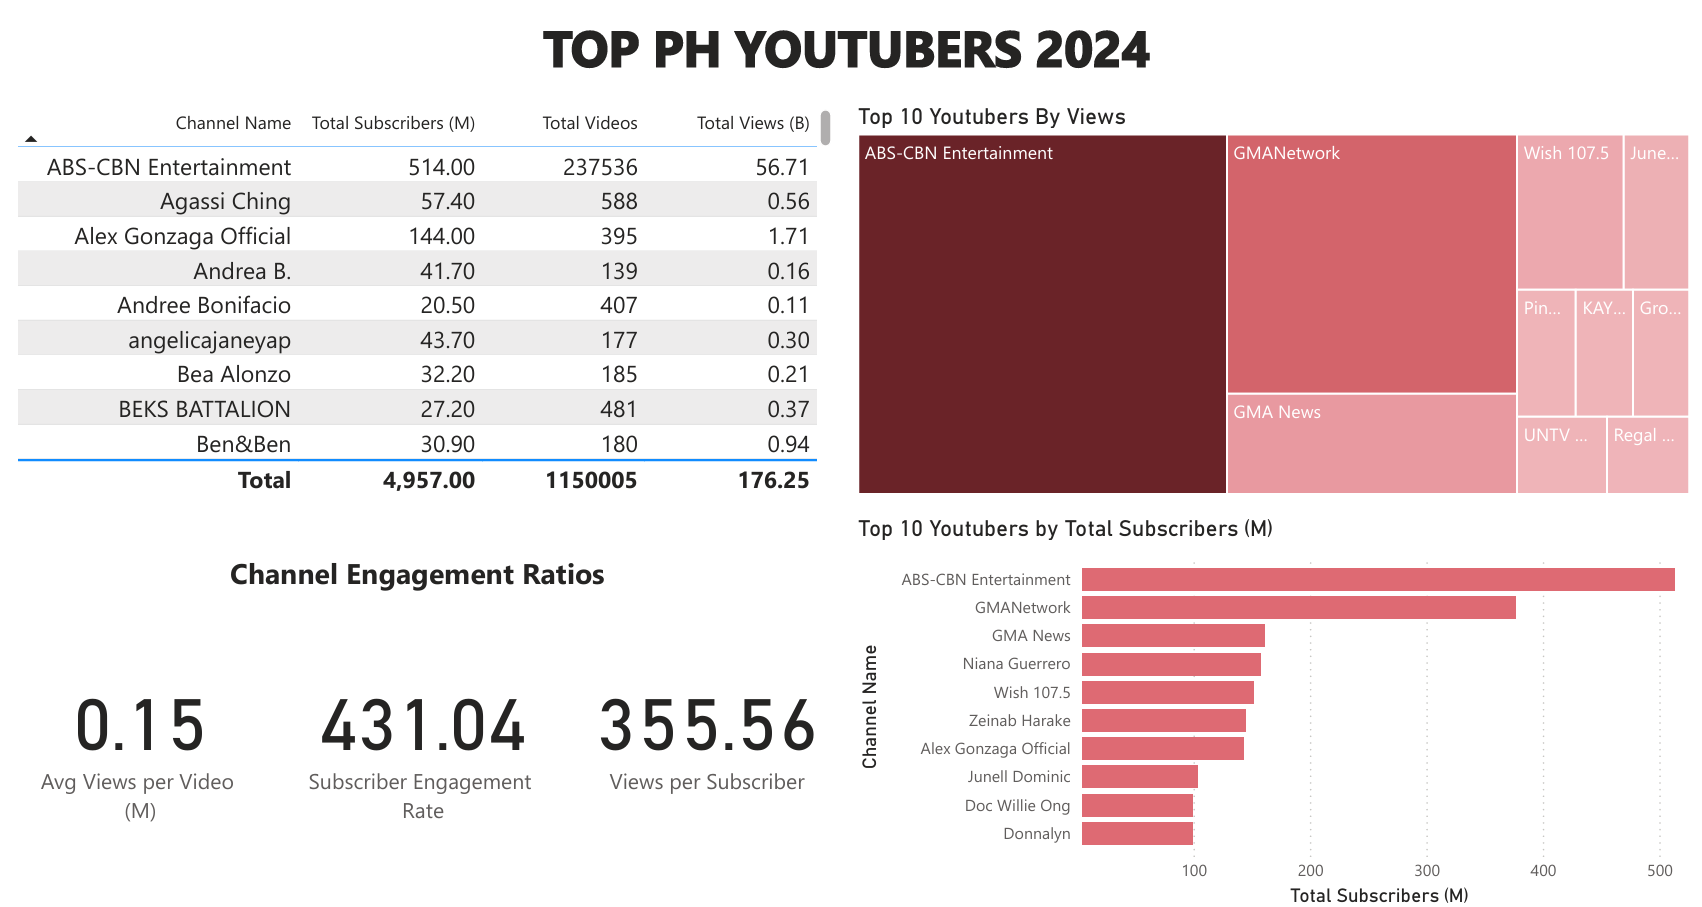

The dashboard page shown, as its layout file describes it:
{"tool":"powerbi","page":{"name":"Page 1","canvas":[1280,720],"ordinal":0},"visuals":[{"type":"textbox","box":[403.6,0,491.2,72],"z":0},{"type":"tableEx","fields":{"Values":["view_ph_youtubers_2024.channel_name","view_ph_youtubers_2024.Total Subscribers (M)","view_ph_youtubers_2024.Total Videos","view_ph_youtubers_2024.Total Views (B)"]},"box":[8.8,72,620.5,298.6],"z":1000},{"type":"treemap","title":"Top 10 Youtubers By Views","fields":{"Group":["view_ph_youtubers_2024.channel_name"],"Values":["view_ph_youtubers_2024.Total Views (B)"]},"box":[640,72,633.2,298.6],"z":2000},{"type":"card","fields":{"Values":["view_ph_youtubers_2024.Avg Views per Video (M)"]},"box":[8.8,393,195.5,298.6],"z":3000},{"type":"card","fields":{"Values":["view_ph_youtubers_2024.Subscriber Engagement Rate"]},"box":[220.8,393,195.5,298.6],"z":4000},{"type":"card","fields":{"Values":["view_ph_youtubers_2024.Views per Subscriber"]},"box":[433.8,393,195.5,298.6],"z":5000},{"type":"clusteredBarChart","title":"Top 10 Youtubers by Total Subscribers (M)","fields":{"Y":["view_ph_youtubers_2024.Total Subscribers (M)"],"Category":["view_ph_youtubers_2024.channel_name"]},"box":[640,381,633,299],"z":6000},{"type":"textbox","box":[169.2,404.6,299.6,41.8],"z":7000}]}

Visuals, with their boxes on the page's 1280x720 design canvas (x1, y1, x2, y2). These are canvas units, not pixel positions in the 1702x907 screenshot, which may show the page scaled, cropped or inside an application window:
textbox: Rect(404, 0, 895, 72)
tableEx - view_ph_youtubers_2024.channel_name x view_ph_youtubers_2024.Total Subscribers (M): Rect(9, 72, 629, 371)
"Top 10 Youtubers By Views" treemap: Rect(640, 72, 1273, 371)
card - view_ph_youtubers_2024.Avg Views per Video (M): Rect(9, 393, 204, 692)
card - view_ph_youtubers_2024.Subscriber Engagement Rate: Rect(221, 393, 416, 692)
card - view_ph_youtubers_2024.Views per Subscriber: Rect(434, 393, 629, 692)
"Top 10 Youtubers by Total Subscribers (M)" clusteredBarChart: Rect(640, 381, 1273, 680)
textbox: Rect(169, 405, 469, 446)
